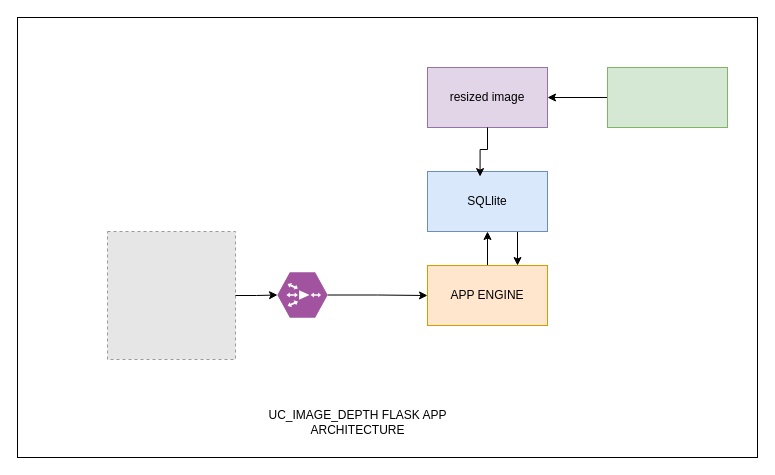
Some shapes in this 775 by 475 pixel diagram are drawn without their labels. Grey dashed boxes stand in for pictures. Each missing label, with the centre of its shape:
API Gateway: the point at 302,295
CSV: the point at 667,97
